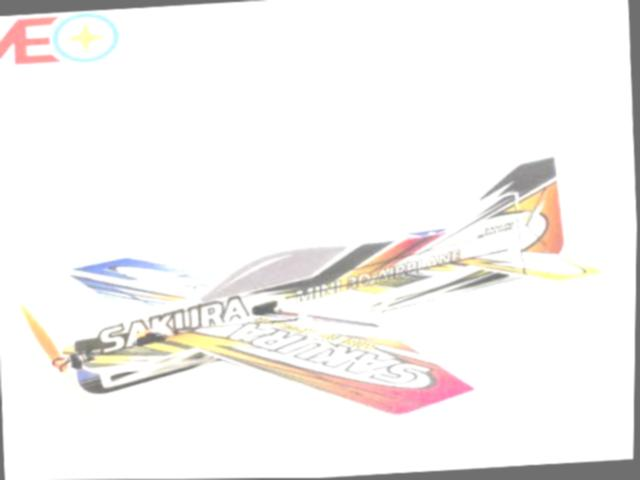uav: (18, 150, 616, 441)
